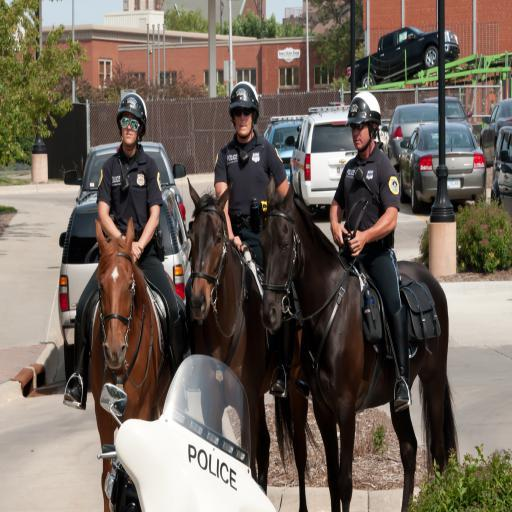Horse: (258, 174, 458, 512), (184, 175, 324, 512), (88, 218, 172, 512)
